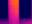Hotspot: (8, 0, 19, 13)
